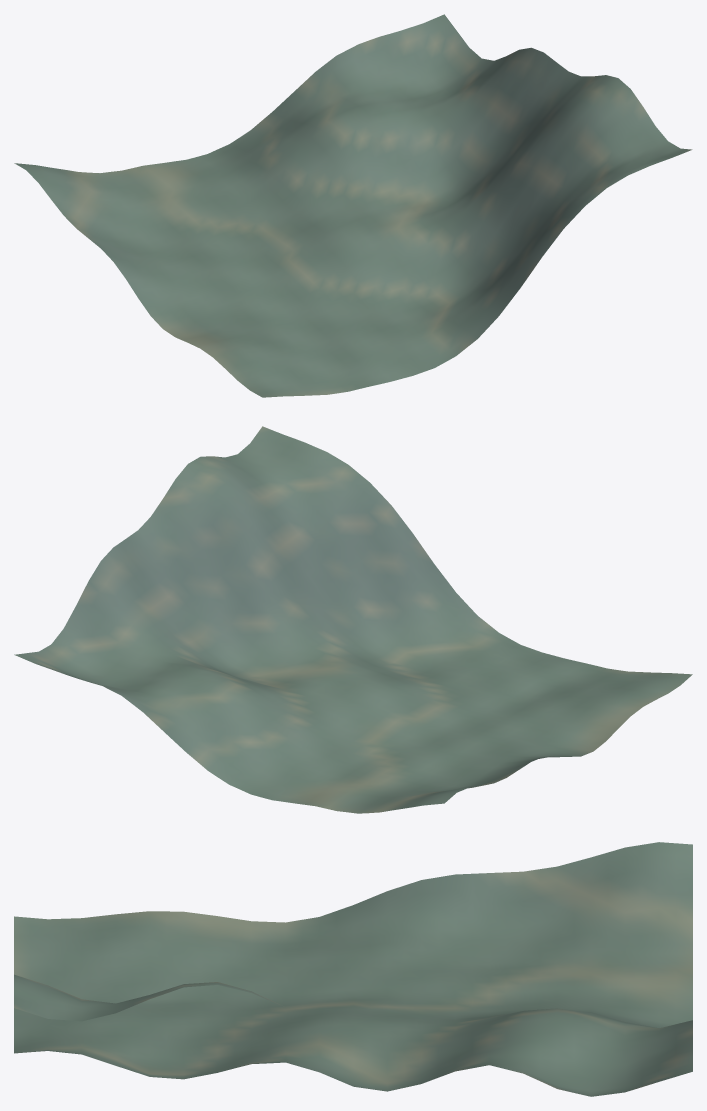
File: ridge_0_-3.glb
3 views of the same model, one above another, from view 1: azimuth 30°, elevation 25°; view 2: azimuth 150°, elevation 25°; view 3: azimuth 270°, elevation 25° (orthographic). The views are drawn at different scales.
Bounding box in the file's own units: 220 × 85.65 × 220.
